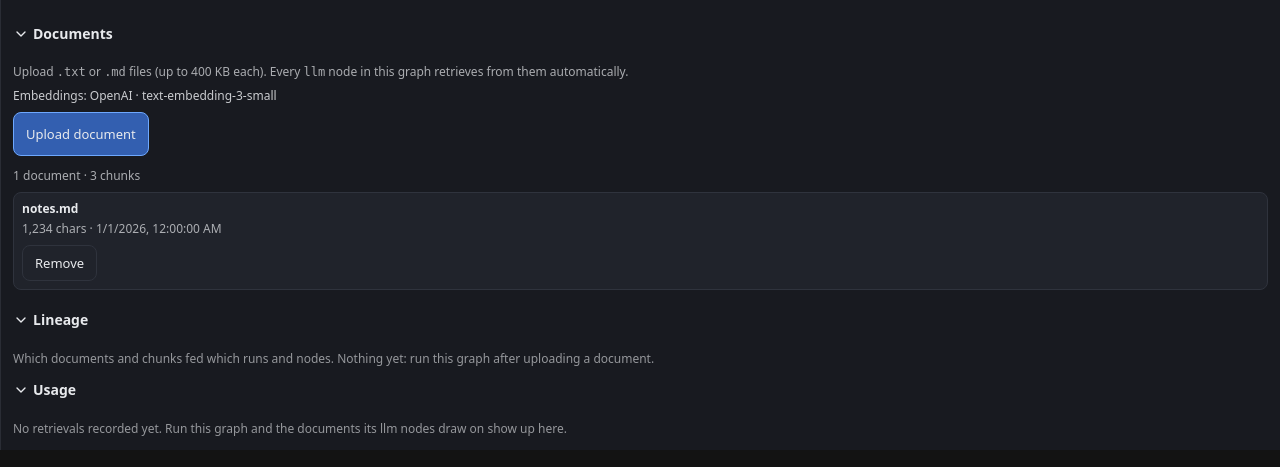
KnowledgePanel › requires a second click to confirm removing a document
Click the button with aria-label "Remove notes.md": (60, 263) x1=22 y1=245 x2=97 y2=281
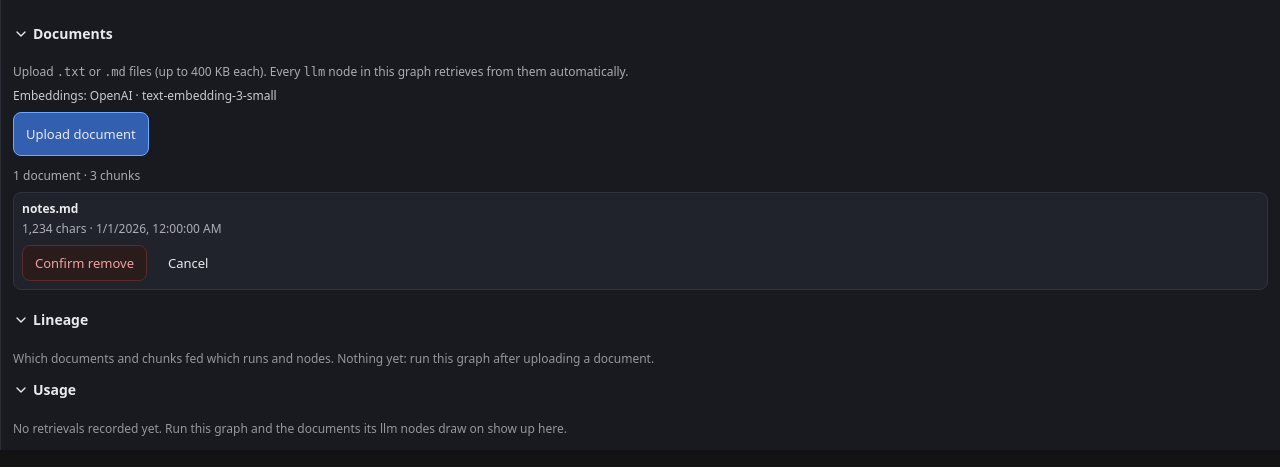
Click the button with aria-label "Confirm remove notes.md": (84, 263) x1=22 y1=245 x2=147 y2=281
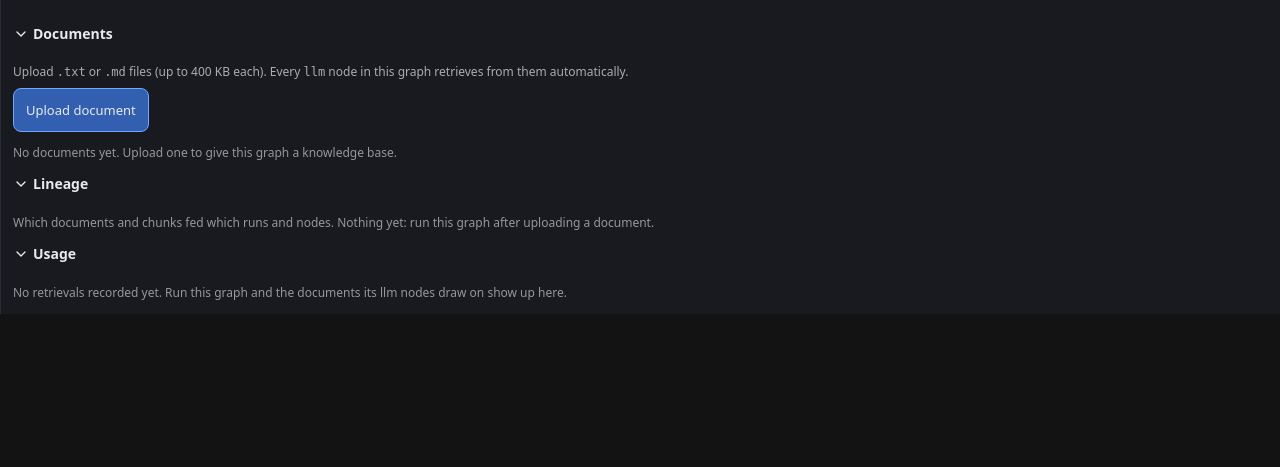
expect the text "No documents yet. Upload one to give this graph a knowledge base." is shown: met, box x1=13 y1=144 x2=397 y2=161
